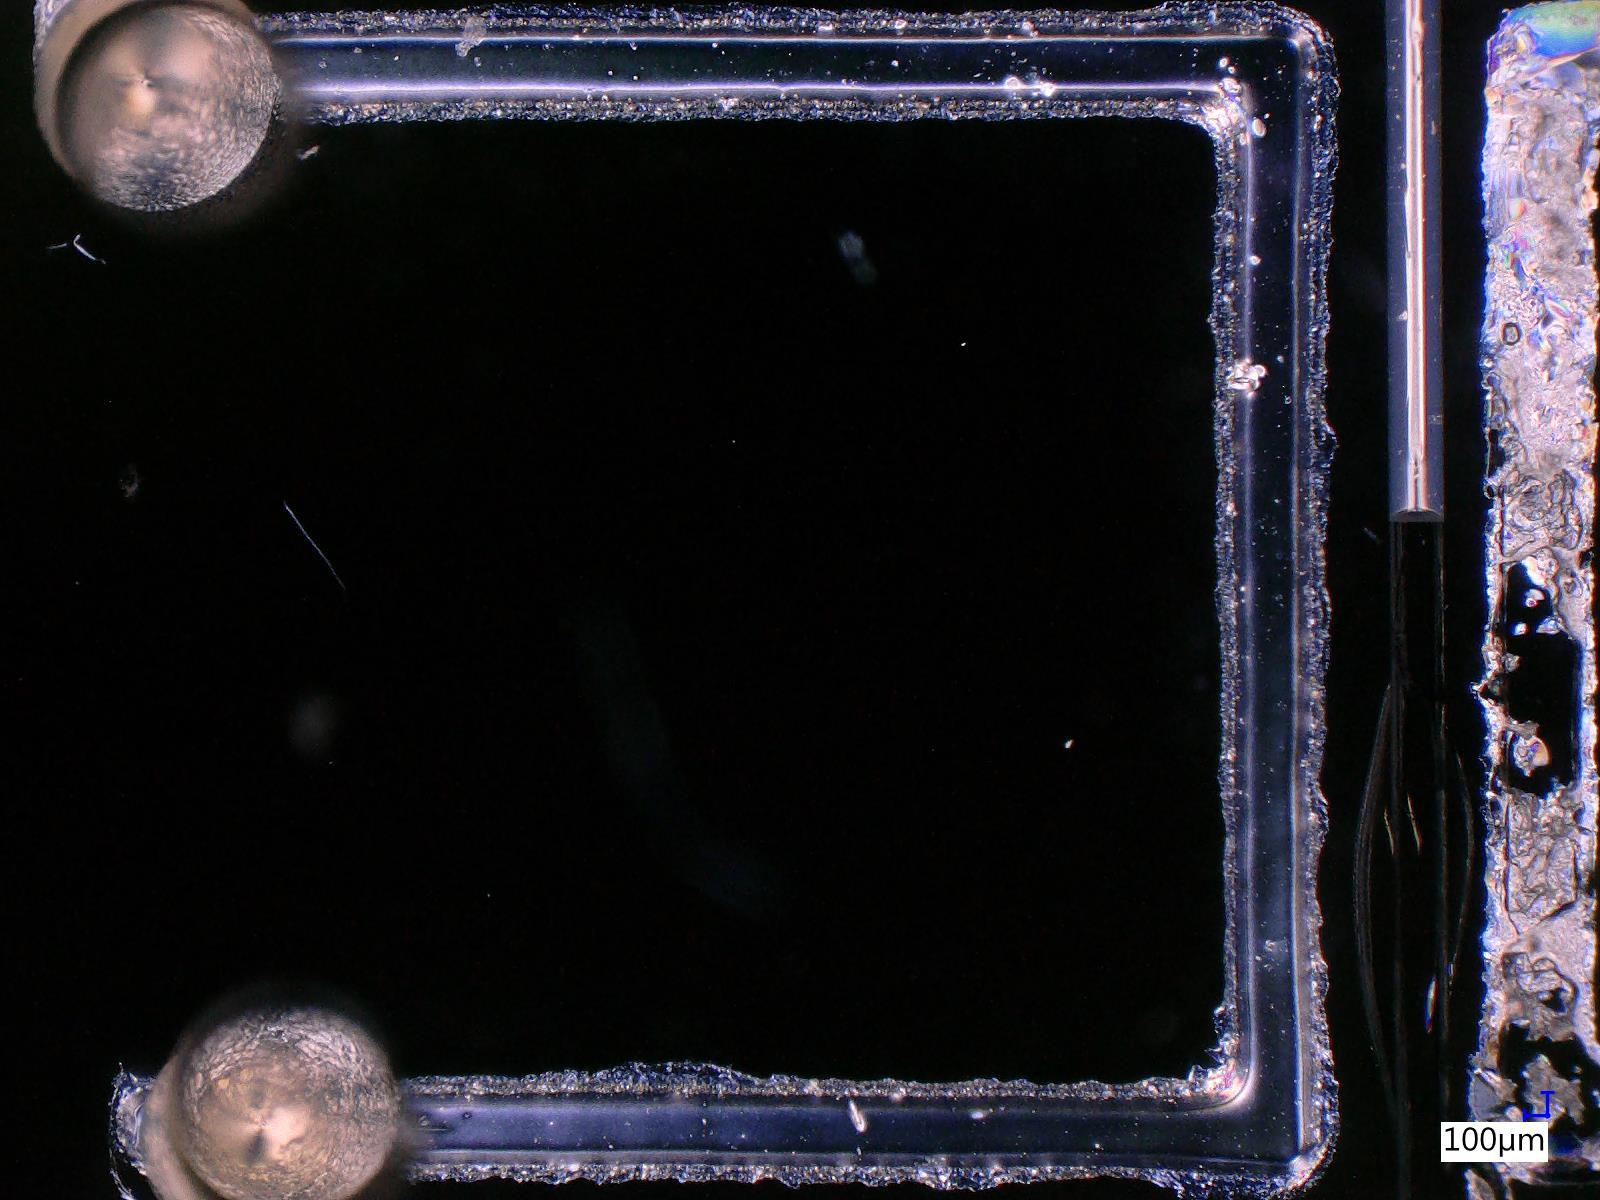sediment: (1488, 76, 1597, 458), (1495, 790, 1591, 1041)
